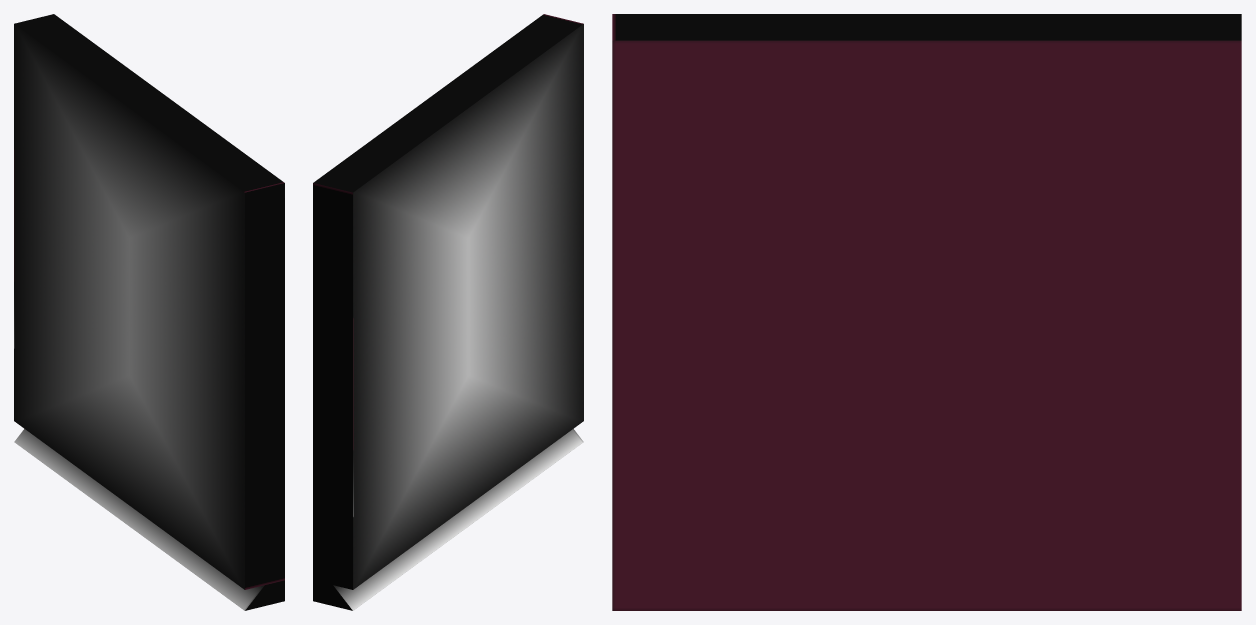
File: Wall.fbx
3 views of the same model, side by side, from view 1: azimuth 30°, elevation 25°; view 2: azimuth 150°, elevation 25°; view 3: azimuth 270°, elevation 25° (orthographic). The views are drawn at different scales.
Parts seen in each view (by area): view 1: Cube; view 2: Cube; view 3: Cube.
Part boxes in pixels (x1,y1,x2,y2): Cube: (14,14,284,610); Cube: (313,14,583,610); Cube: (612,14,1241,610).
Bounding box in the file's own units: 20 × 200 × 200.
Materials: 1 (1 with a texture image).
